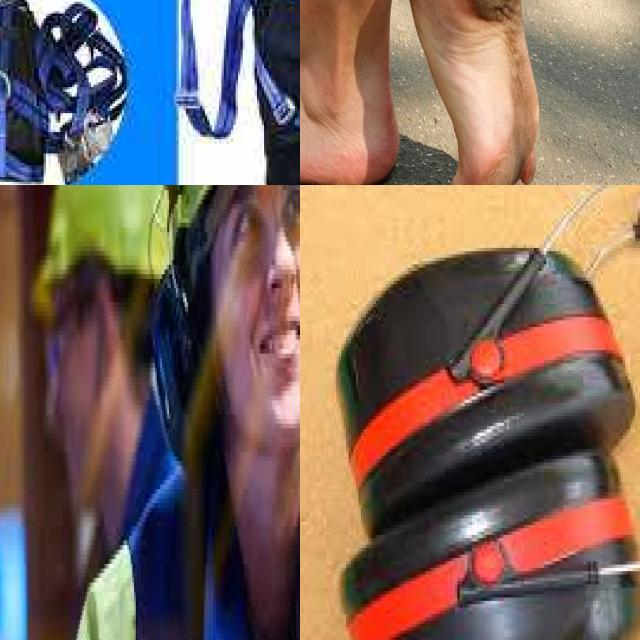Barefoots: (433, 0, 539, 185), (300, 41, 399, 185)
Ear-protection: (329, 238, 620, 505), (333, 485, 640, 640), (148, 223, 216, 475)
head_helmet: (167, 185, 300, 241)
